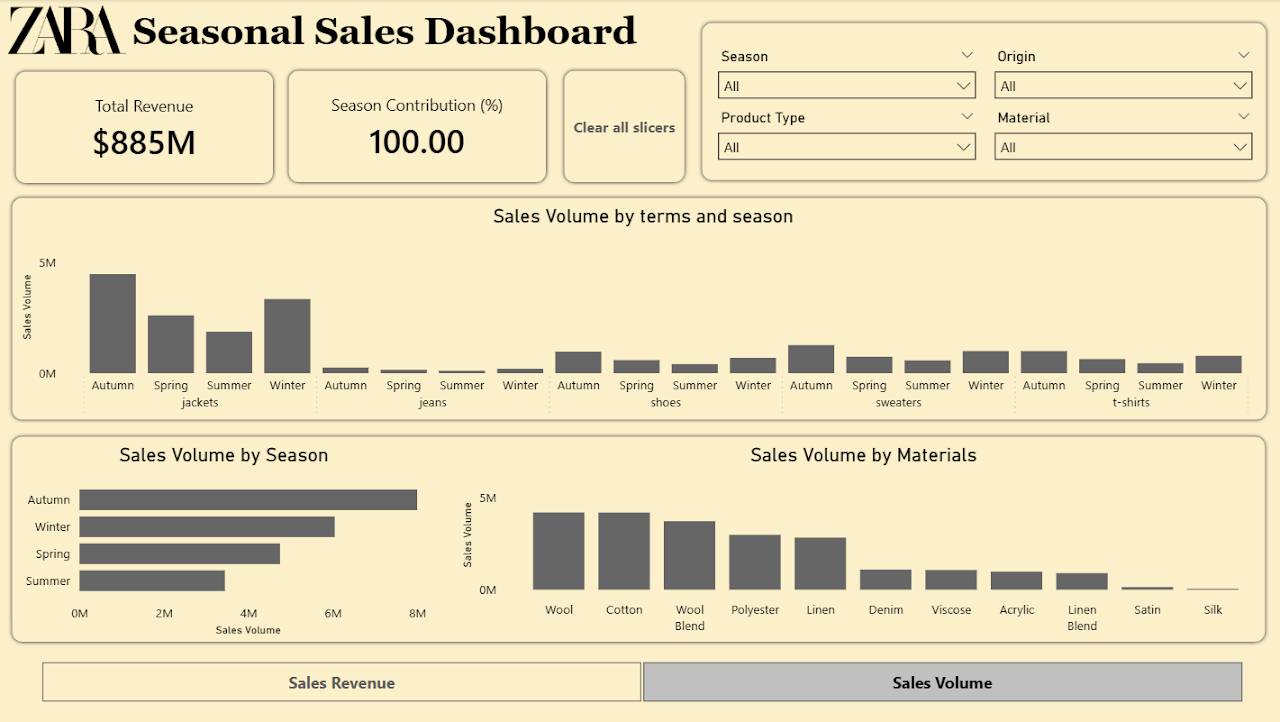

What the dashboard file says about the page in this screenshot:
{"tool":"powerbi","page":{"name":"Seasonal","canvas":[1280,720],"ordinal":0},"visuals":[{"type":"group","id":"g1","title":"Background","box":[10,20,1258,624.4],"z":0},{"type":"shape","box":[560,67.8,127.8,118.9],"z":500,"group":"g1"},{"type":"shape","box":[10.3,194.4,1257.8,228.9],"z":1000,"group":"g1"},{"type":"shape","box":[697.8,20,570,164.4],"z":2000,"group":"g1"},{"type":"clusteredBarChart","fields":{"Y":["zara sales final.Sales Volume"],"Category":["zara sales final.season"]},"box":[18,442.6,413.9,196.6],"z":2000},{"type":"shape","box":[13.4,68.9,264.4,118.9],"z":3000,"group":"g1"},{"type":"slicer","fields":{"Values":["Measures 2.Measures"]},"box":[17.8,653.3,1245.6,53.3],"z":3000},{"type":"shape","box":[10,432.2,1256.7,212.2],"z":4000,"group":"g1"},{"type":"clusteredColumnChart","fields":{"Y":["zara sales final.Sales Volume"],"Category":["zara sales final.material"]},"box":[456.7,442.2,811.1,196.7],"z":4000},{"type":"shape","box":[285.6,67.8,264.4,118.9],"z":5000,"group":"g1"},{"type":"clusteredColumnChart","fields":{"Y":["zara sales final.Sales Volume"],"Category":["zara sales final.terms","zara sales final.season"]},"box":[17.8,204.4,1250,218.9],"z":5000},{"type":"cardVisual","fields":{"Data":["Sum(zara sales final.total_revenue)"]},"box":[13.3,76.7,264.4,104.4],"z":6000},{"type":"slicer","fields":{"Values":["zara sales final.terms"]},"box":[707.4,105,277.4,70.9],"z":7000},{"type":"textbox","box":[127.3,6.4,515.5,57.3],"z":8000},{"type":"cardVisual","fields":{"Data":["zara sales final.Season Contribution (%)"]},"box":[285.6,75.6,264.4,104.4],"z":9000},{"type":"image","box":[2.7,6.4,131.8,49.1],"z":10000},{"type":"slicer","fields":{"Values":["zara sales final.material"]},"box":[983,105,277.4,70.9],"z":11000},{"type":"slicer","fields":{"Values":["zara sales final.season"]},"box":[707.4,44,277.4,70.9],"z":12000},{"type":"slicer","fields":{"Values":["zara sales final.origin"]},"box":[983,44,277.4,70.9],"z":13000},{"type":"actionButton","box":[560,64.4,127.8,123.3],"z":14000}]}

Visuals, with their boxes in screenshot pixels (x1, y1, x2, y2), scaled from the page's 1280x720 canvas onto the 1280x722 screenshot:
"Background" group: l=10, t=20, r=1268, b=646
shape: l=560, t=68, r=688, b=187
shape: l=10, t=195, r=1268, b=424
shape: l=698, t=20, r=1268, b=185
clusteredBarChart - zara sales final.Sales Volume x zara sales final.season: l=18, t=444, r=432, b=641
shape: l=13, t=69, r=278, b=188
slicer - Measures 2.Measures: l=18, t=655, r=1263, b=709
shape: l=10, t=433, r=1267, b=646
clusteredColumnChart - zara sales final.Sales Volume x zara sales final.material: l=457, t=443, r=1268, b=641
shape: l=286, t=68, r=550, b=187
clusteredColumnChart - zara sales final.Sales Volume x zara sales final.terms: l=18, t=205, r=1268, b=424
cardVisual - Sum(zara sales final.total_revenue): l=13, t=77, r=278, b=182
slicer - zara sales final.terms: l=707, t=105, r=985, b=176
textbox: l=127, t=6, r=643, b=64
cardVisual - zara sales final.Season Contribution (%): l=286, t=76, r=550, b=180
image: l=3, t=6, r=134, b=56
slicer - zara sales final.material: l=983, t=105, r=1260, b=176
slicer - zara sales final.season: l=707, t=44, r=985, b=115
slicer - zara sales final.origin: l=983, t=44, r=1260, b=115
actionButton: l=560, t=65, r=688, b=188
